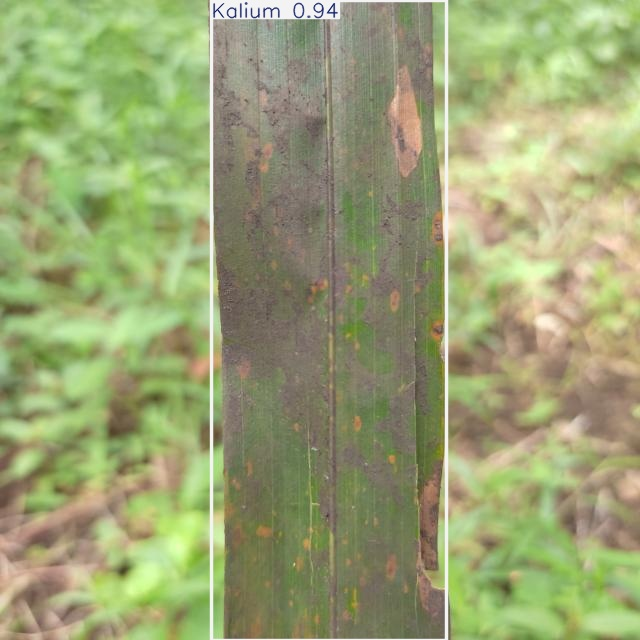Kalium: (211, 1, 446, 640)
